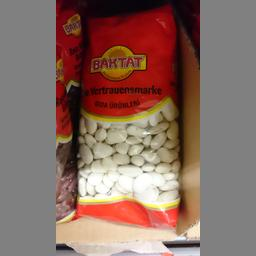beans: (76, 7, 180, 234)
